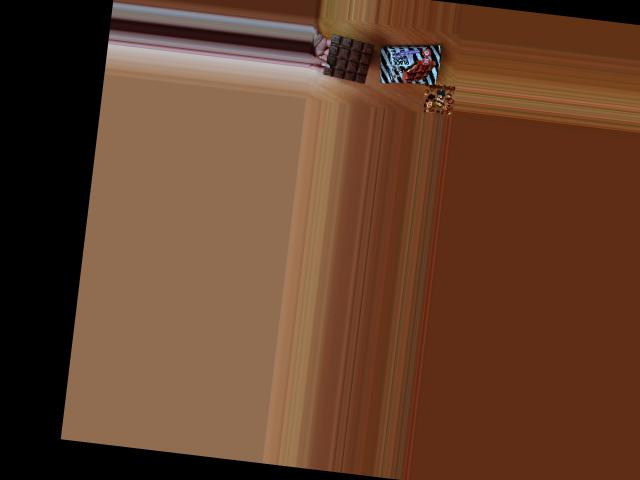chocolate: (374, 39, 444, 88)
